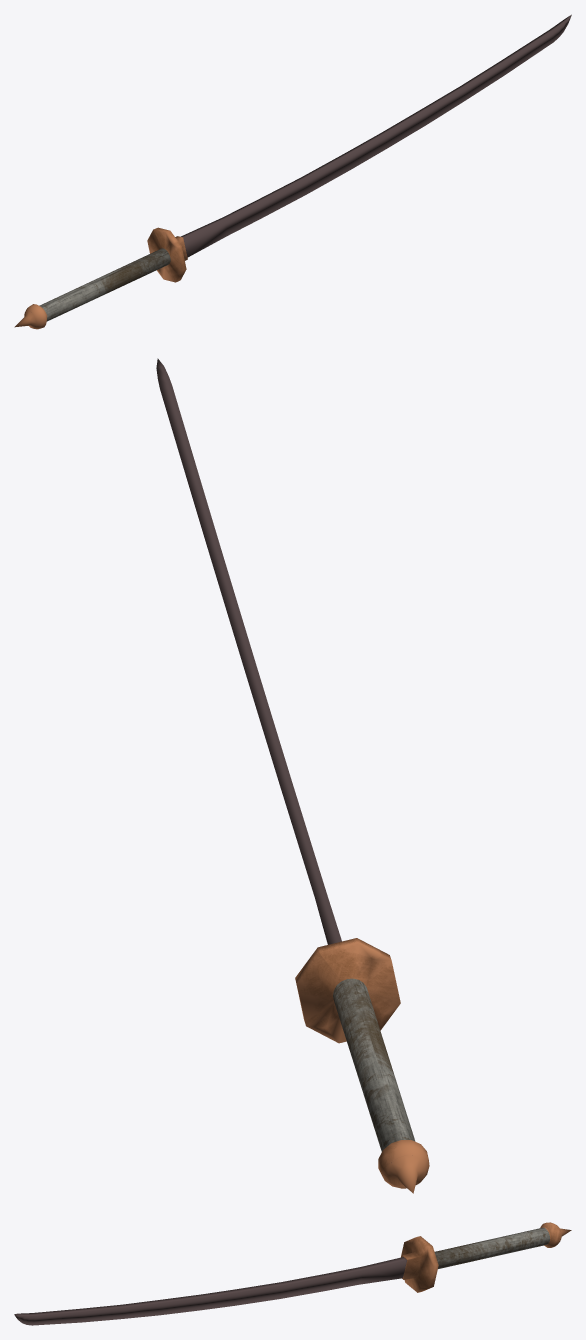
File: Anim_idle_katana_objetos.0053.obj
3 views of the same model, one above another, from view 1: azimuth 90°, elevation 25°; view 2: azimuth 150°, elevation 25°; view 3: azimuth 270°, elevation 25° (orthographic). The views are drawn at different scales.
Parts seen in each view (by area): view 1: Katana1; view 2: Katana1; view 3: Katana1.
Part boxes in pixels (box(x1,y1,x2,y2)): Katana1: box(14, 14, 571, 329); Katana1: box(156, 358, 429, 1193); Katana1: box(14, 1222, 571, 1325).
Bounding box in the file's own units: 3.4 × 0.982 × 4.04.
